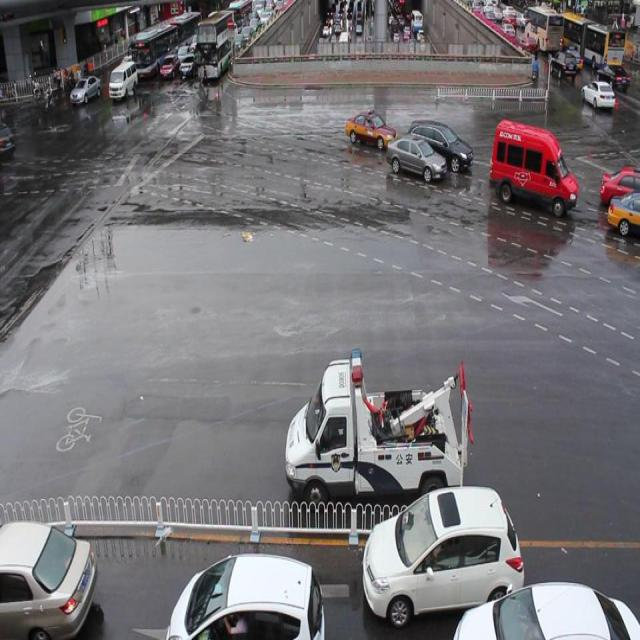bus: (285, 343, 473, 512)
car: (363, 489, 524, 626), (170, 550, 325, 640), (0, 515, 96, 640), (454, 578, 640, 640), (407, 114, 472, 169), (387, 133, 445, 179), (347, 106, 398, 148), (606, 186, 640, 237), (600, 163, 640, 206)
truck: (490, 115, 578, 213)
